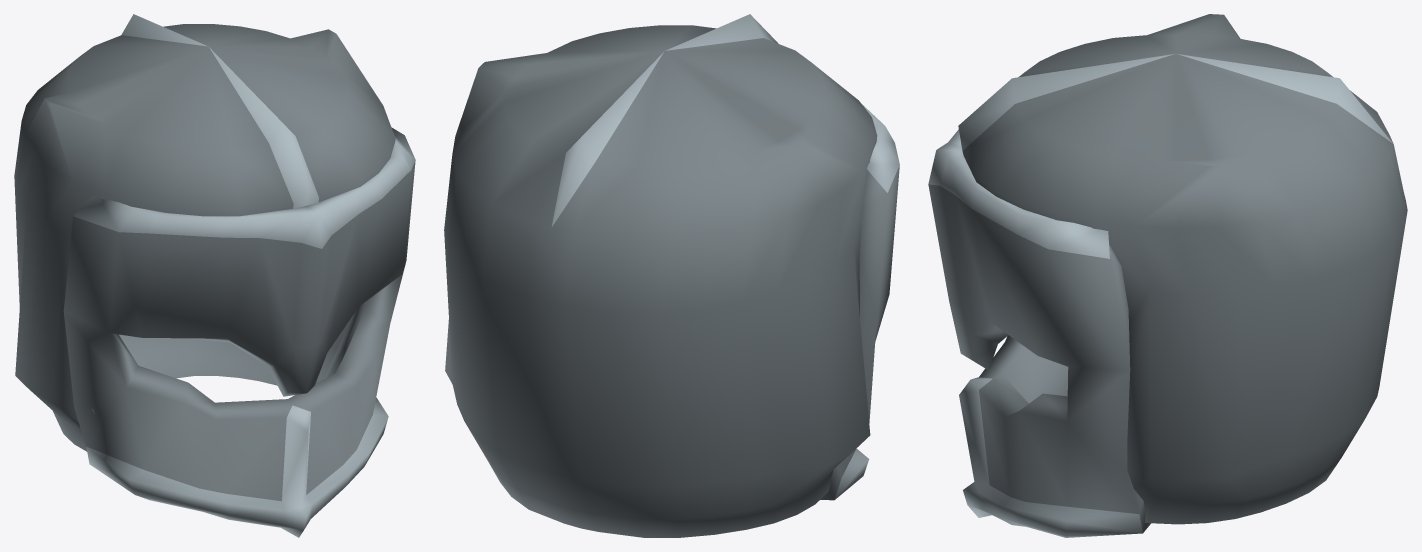
File: helm_knight.gltf
3 views of the same model, side by side, from view 1: azimuth 30°, elevation 25°; view 2: azimuth 150°, elevation 25°; view 3: azimuth 270°, elevation 25° (orthographic). The views are drawn at different scales.
Visible parts, largest first — view 1: helm_knight; view 2: helm_knight; view 3: helm_knight.
Boxes of the visible parts, <box> form: helm_knight: <box>14,14,415,537</box>; helm_knight: <box>444,14,899,537</box>; helm_knight: <box>928,14,1407,537</box>.
Size of the model in its own units: 1.21 by 1.42 by 1.33.
